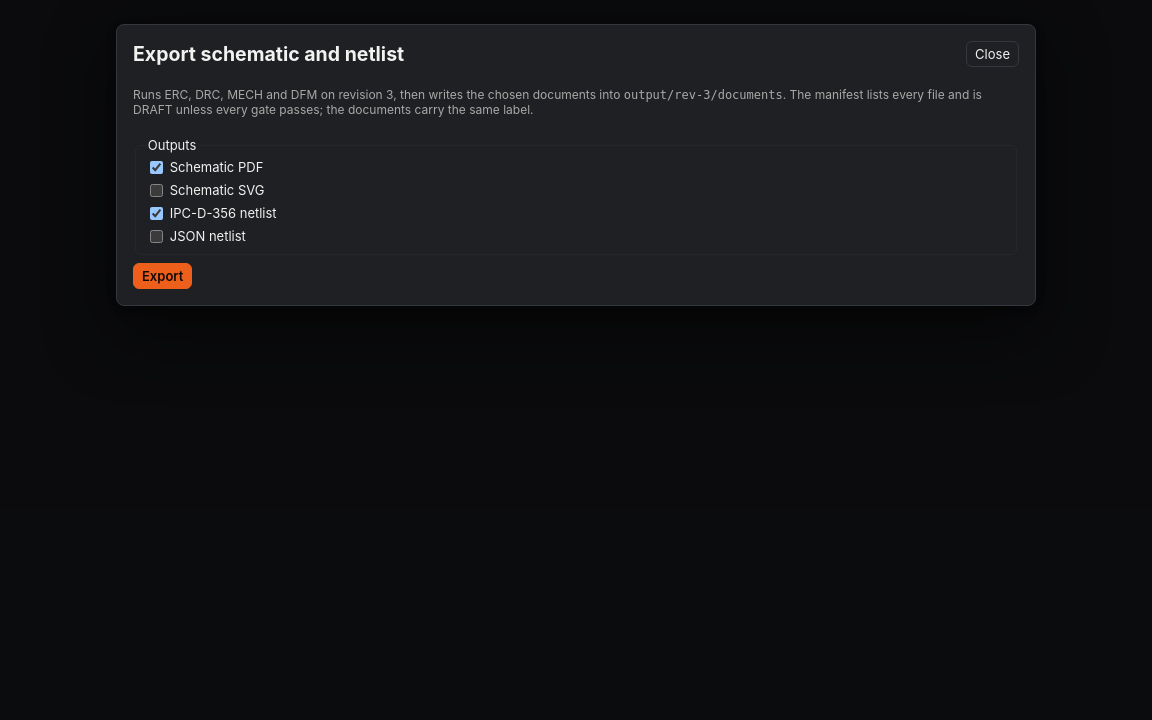
Test: Export schematic and netlist dialog › cannot export with nothing chosen
The image size is (1152, 720).
What coordinates should you click on to do the following:
click the checkbox labelled "Schematic PDF"
I would click on:
 (156, 167)
Its box is [150,160,163,174].
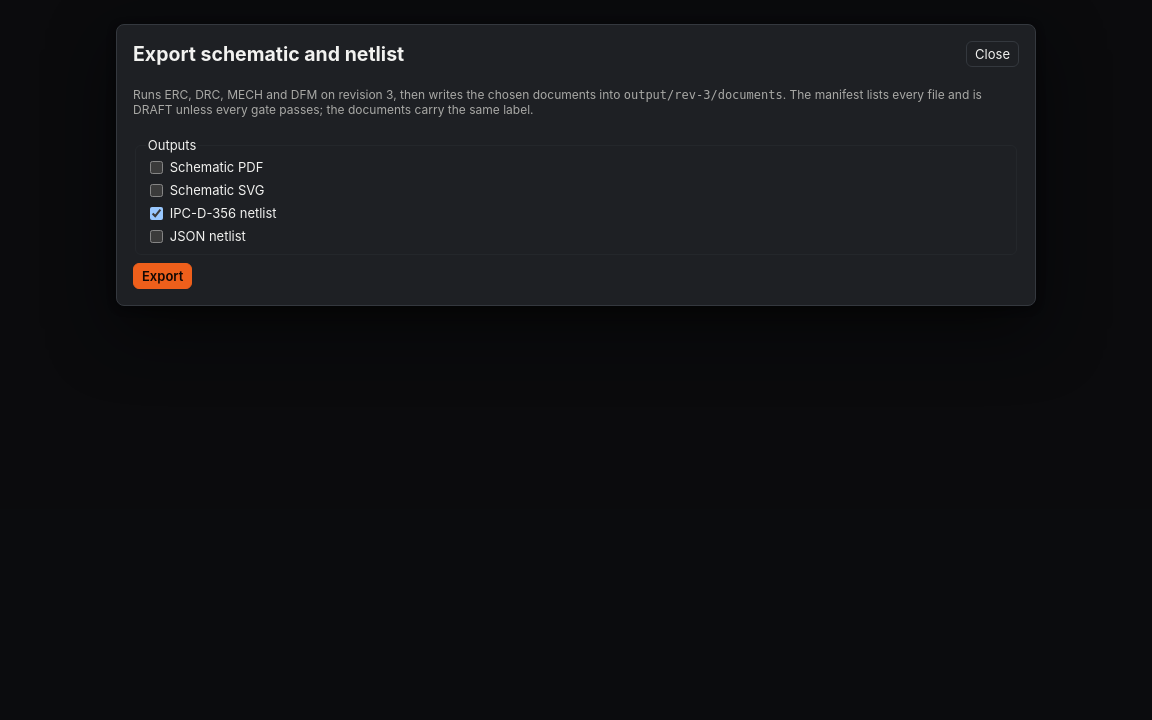
What coordinates should you click on to do the following:
click the checkbox labelled "IPC-D-356 netlist"
I would click on:
 (156, 213)
Its box is [150,206,163,220].
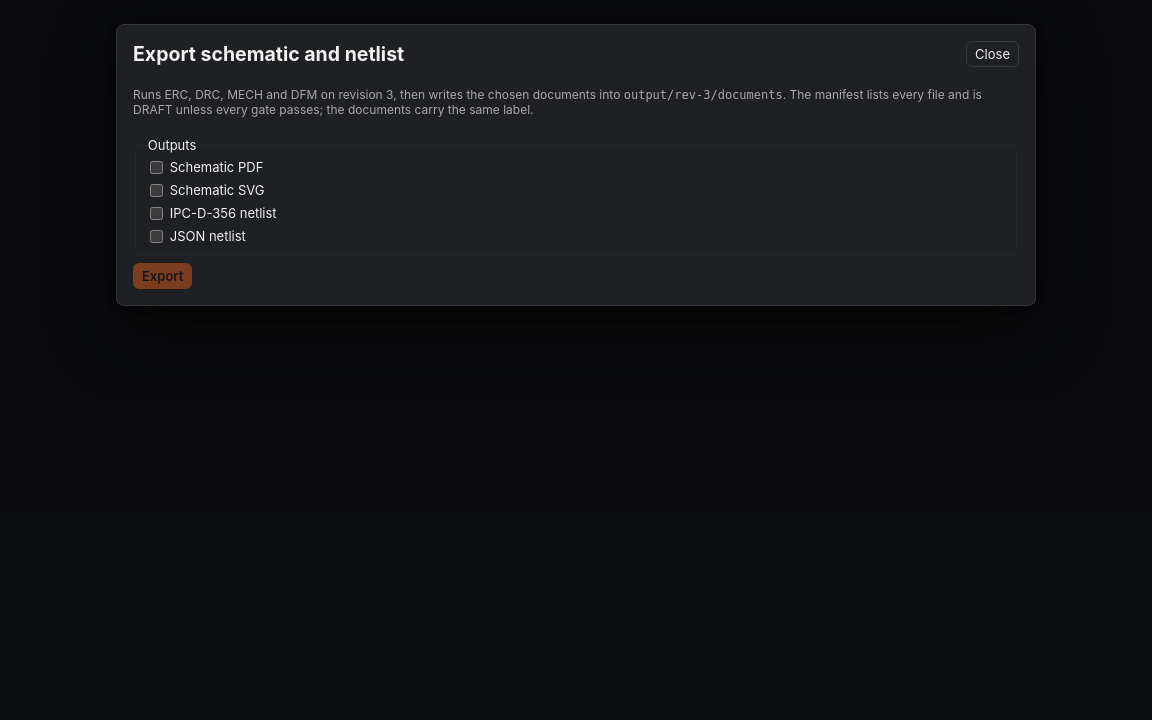
Expected: the button "Export" is disabled, [133,263,192,289]
